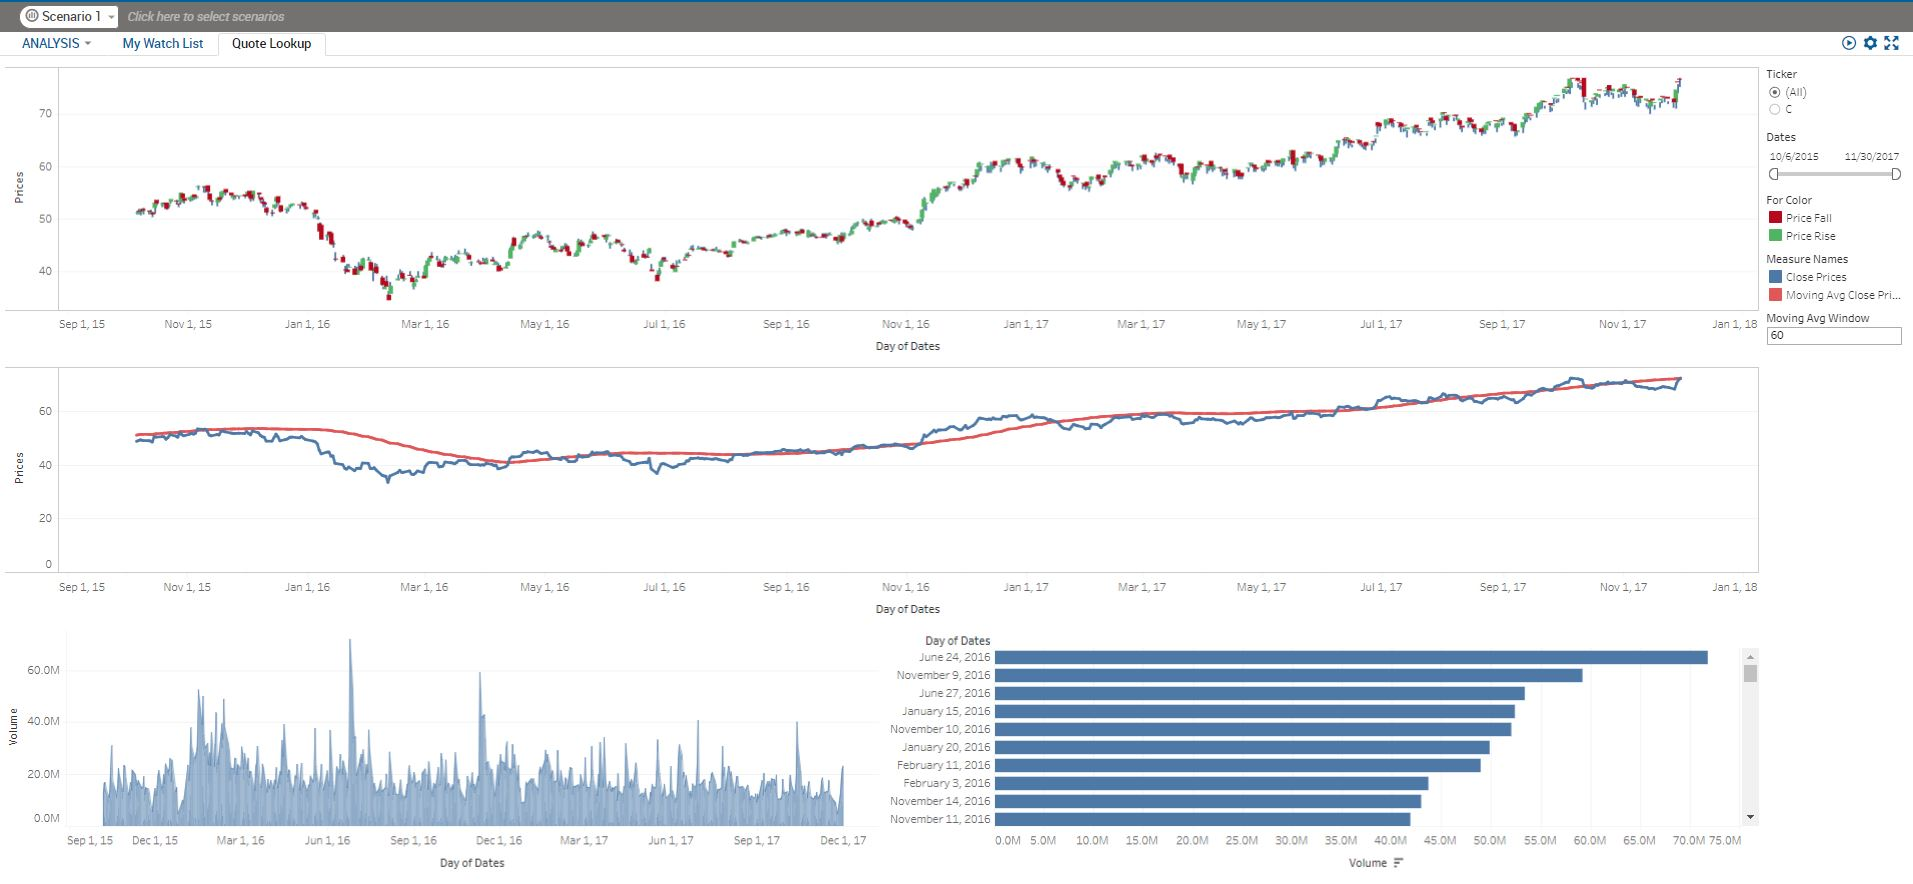

This screenshot's page, from the dashboard's own definition file:
{"tool":"tableau","page":{"name":"Quote Lookup","canvas":[1000,1000],"units":"permille","ordinal":0},"visuals":[{"type":"worksheet","title":"shCandleStick","mark":"Automatic","rows":["rsLowPrices","rsOpenPrices"],"cols":["idxDates"],"box":[4.8,9.1,893.8,362]},{"type":"filter","title":"shCandleStick","param":"[federated.08apzm71ov0iqp1b0fngi1oq3yyv].[none:idxStock:nk]","box":[898.6,9.1,96.6,93.4]},{"type":"filter","title":"shCandleStick","param":"[federated.08apzm71ov0iqp1b0fngi1oq3yyv].[none:idxDates:qk]","box":[898.6,102.5,96.6,83.1]},{"type":"legend","title":"shCandleStick","param":"[federated.08apzm71ov0iqp1b0fngi1oq3yyv].[none:Calculation_112027105239158786:nk","box":[898.6,185.6,96.6,82]},{"type":"legend","title":"shClosePrice","param":"[federated.08apzm71ov0iqp1b0fngi1oq3yyv].[:Measure Names]","box":[898.6,267.6,96.6,82]},{"type":"parameter","param":"[Parameters].[High Prices Parameter]","box":[898.6,349.6,96.6,63.8]},{"type":"worksheet","title":"shClosePrice","mark":"Automatic","rows":["Calculation_974747908871147520","rsClosePrices"],"cols":["idxDates"],"box":[4.8,371.1,893.8,315.9]},{"type":"worksheet","title":"shVolume","mark":"Area","rows":["rsVolume"],"cols":["idxDates"],"box":[4.8,687,446.9,303.9]},{"type":"worksheet","title":"shVolumeRank","mark":"Bar","rows":["idxDates"],"cols":["rsVolume"],"box":[451.7,687,446.9,303.9]}]}

Visuals, with their boxes on the dashboard's canvas, which has no fixed pixel size, in thousandths of its width and height (x1, y1, x2, y2). These are canvas units, not pixel positions in the 1913x884 screenshot, which may show the page scaled, cropped or inside an application window:
"shCandleStick" worksheet: {"x1": 5, "y1": 9, "x2": 899, "y2": 371}
"shCandleStick" filter: {"x1": 899, "y1": 9, "x2": 995, "y2": 102}
"shCandleStick" filter: {"x1": 899, "y1": 102, "x2": 995, "y2": 186}
"shCandleStick" legend: {"x1": 899, "y1": 186, "x2": 995, "y2": 268}
"shClosePrice" legend: {"x1": 899, "y1": 268, "x2": 995, "y2": 350}
parameter: {"x1": 899, "y1": 350, "x2": 995, "y2": 413}
"shClosePrice" worksheet: {"x1": 5, "y1": 371, "x2": 899, "y2": 687}
"shVolume" worksheet (Area marks): {"x1": 5, "y1": 687, "x2": 452, "y2": 991}
"shVolumeRank" worksheet (Bar marks): {"x1": 452, "y1": 687, "x2": 899, "y2": 991}
